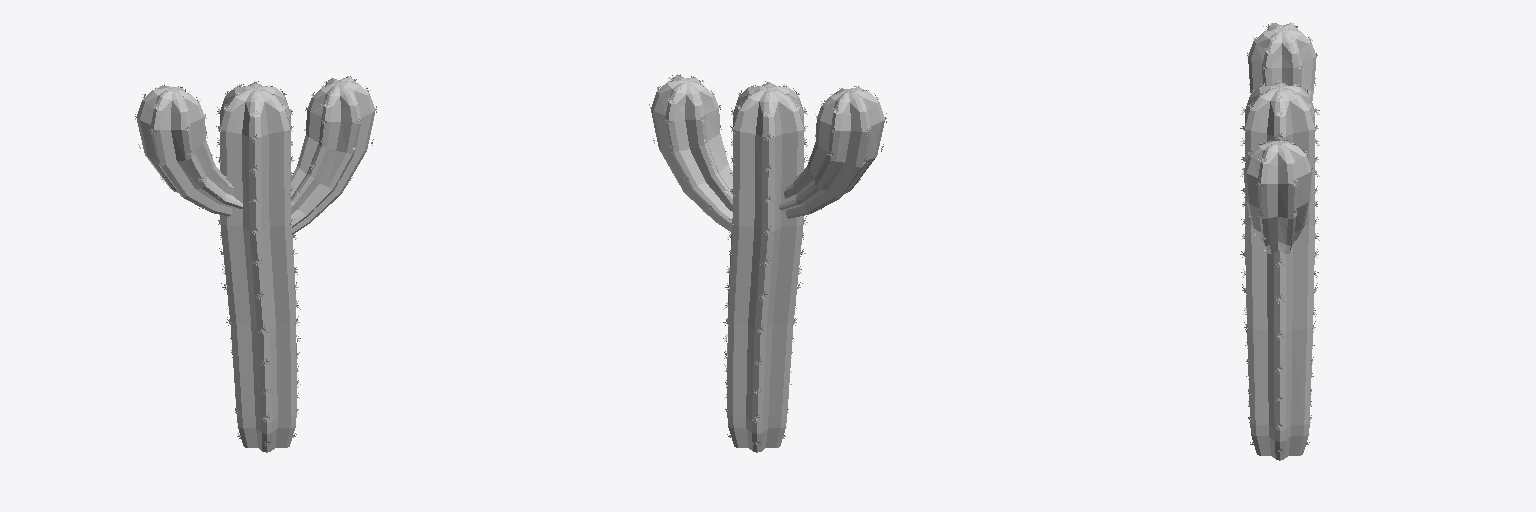
The model's file is cactus2.obj.
3 renders of one model, left to right at view 1: azimuth 30°, elevation 25°; view 2: azimuth 150°, elevation 25°; view 3: azimuth 270°, elevation 25°, orthographic.
Parts seen in each view (by area): view 1: Candelabre.003_.010, Candelabre.005_.012, Candelabre.004_.011; view 2: Candelabre.003_.010, Candelabre.005_.012, Candelabre.004_.011; view 3: Candelabre.003_.010, Candelabre.005_.012, Candelabre.004_.011.
Part boxes in pixels (bbox=[...]): Candelabre.003_.010: bbox=[216, 81, 300, 452]; Candelabre.005_.012: bbox=[291, 76, 376, 234]; Candelabre.004_.011: bbox=[135, 84, 243, 216]; Candelabre.003_.010: bbox=[723, 81, 808, 452]; Candelabre.005_.012: bbox=[649, 74, 732, 232]; Candelabre.004_.011: bbox=[779, 86, 886, 218]; Candelabre.003_.010: bbox=[1240, 81, 1319, 460]; Candelabre.005_.012: bbox=[1242, 140, 1312, 253]; Candelabre.004_.011: bbox=[1247, 22, 1317, 100].
Bounding box in the file's own units: 2.83 × 4.47 × 0.8757.